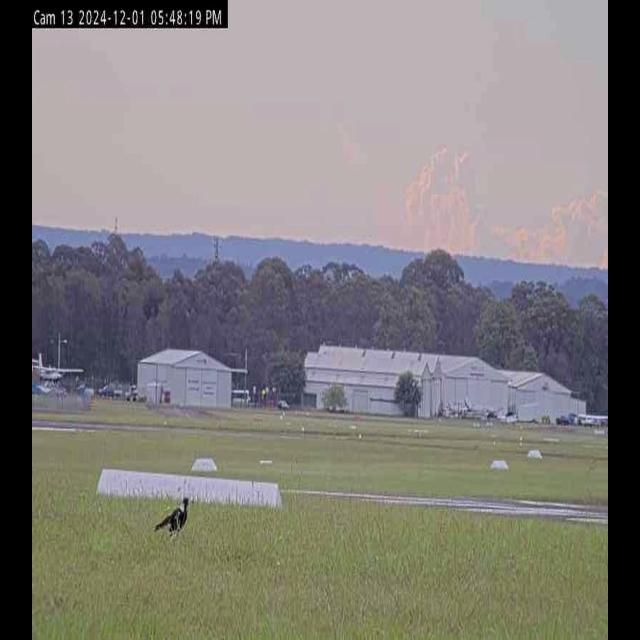Birds-Other: (154, 492, 196, 540)
